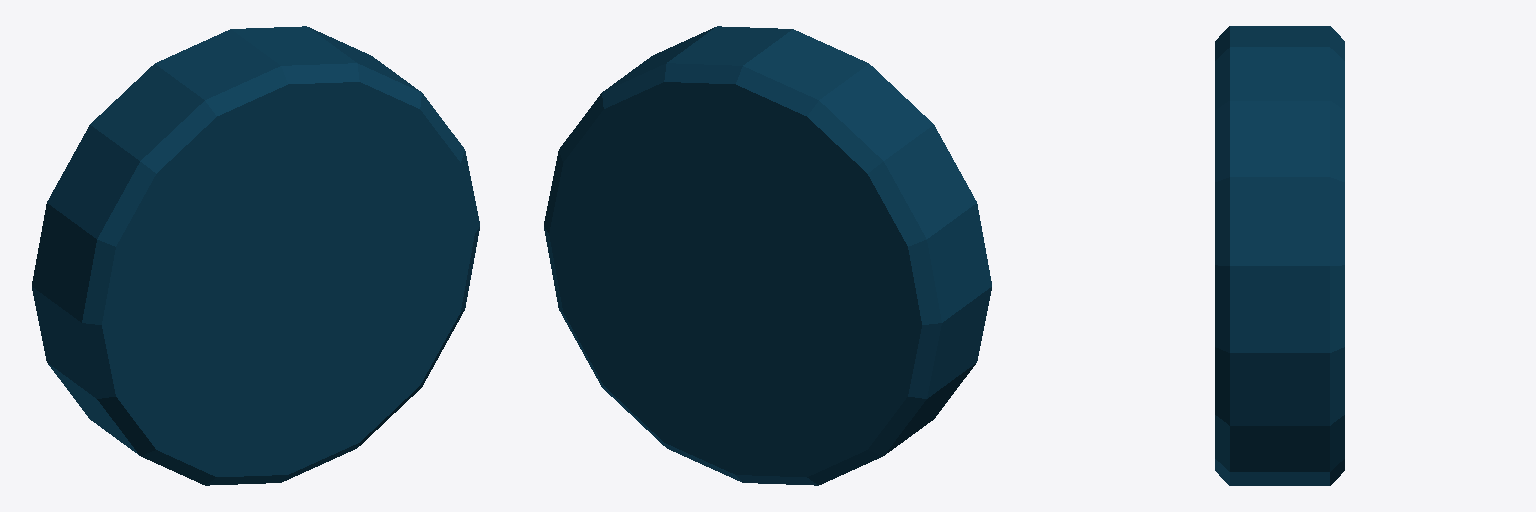
File: Spacestation_Structure_Ribbed_Round_Band.obj
3 renders of one model, left to right at view 1: azimuth 30°, elevation 25°; view 2: azimuth 150°, elevation 25°; view 3: azimuth 270°, elevation 25°, orthographic.
Visible parts, largest first — view 1: object1; view 2: object1; view 3: object1.
Boxes of the visible parts, <box> form: object1: <box>32,26,479,485</box>; object1: <box>544,26,991,485</box>; object1: <box>1215,26,1344,485</box>.
Size of the model in its own units: 1.6 by 1.6 by 0.45.